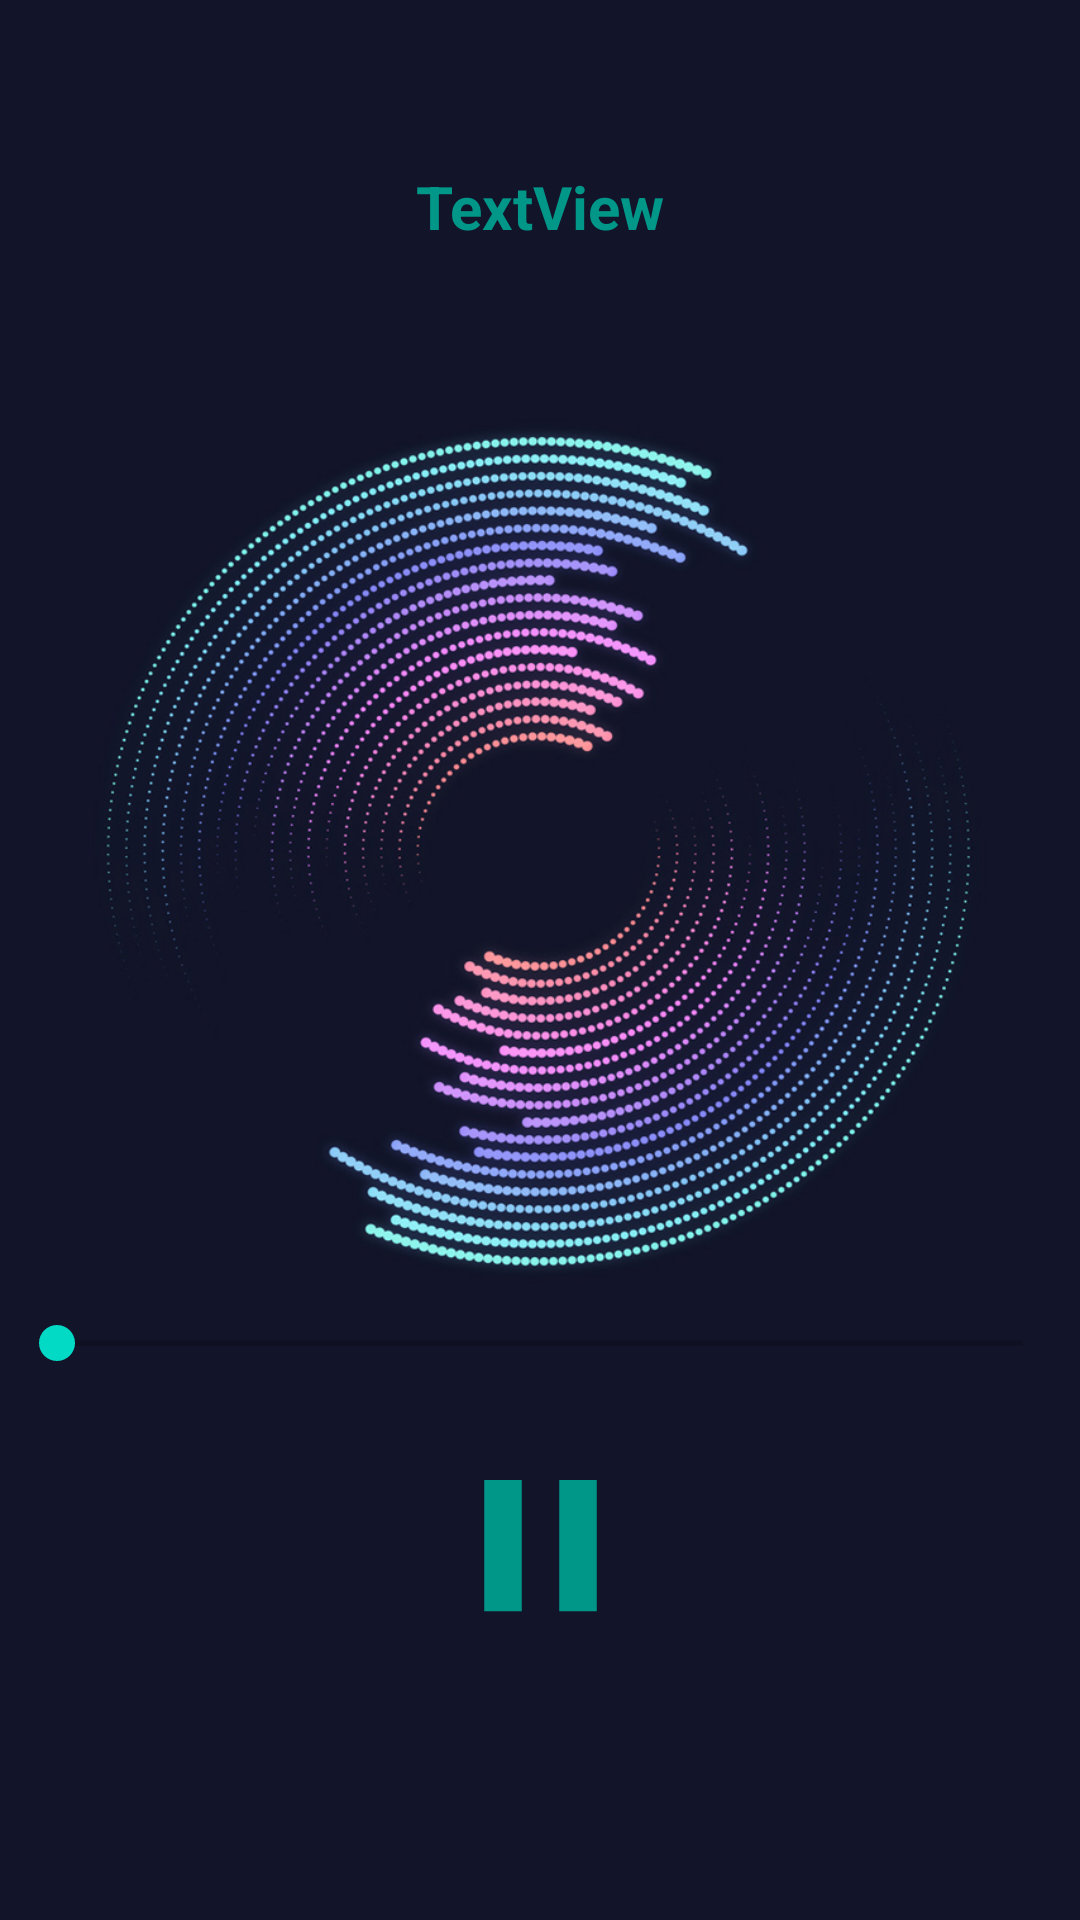

Screen size 1080*1920. Icon name, then its center in pixels as (x=x, y=y):
pause: (x=540, y=1546)
